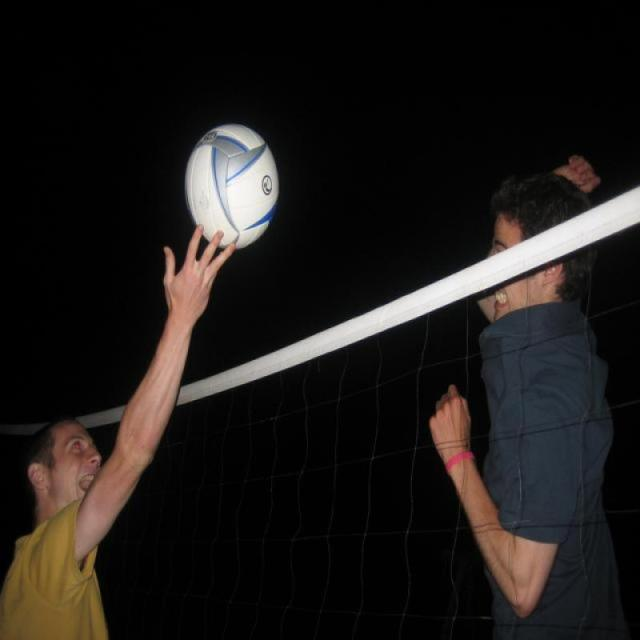volleyball: (182, 120, 280, 252)
